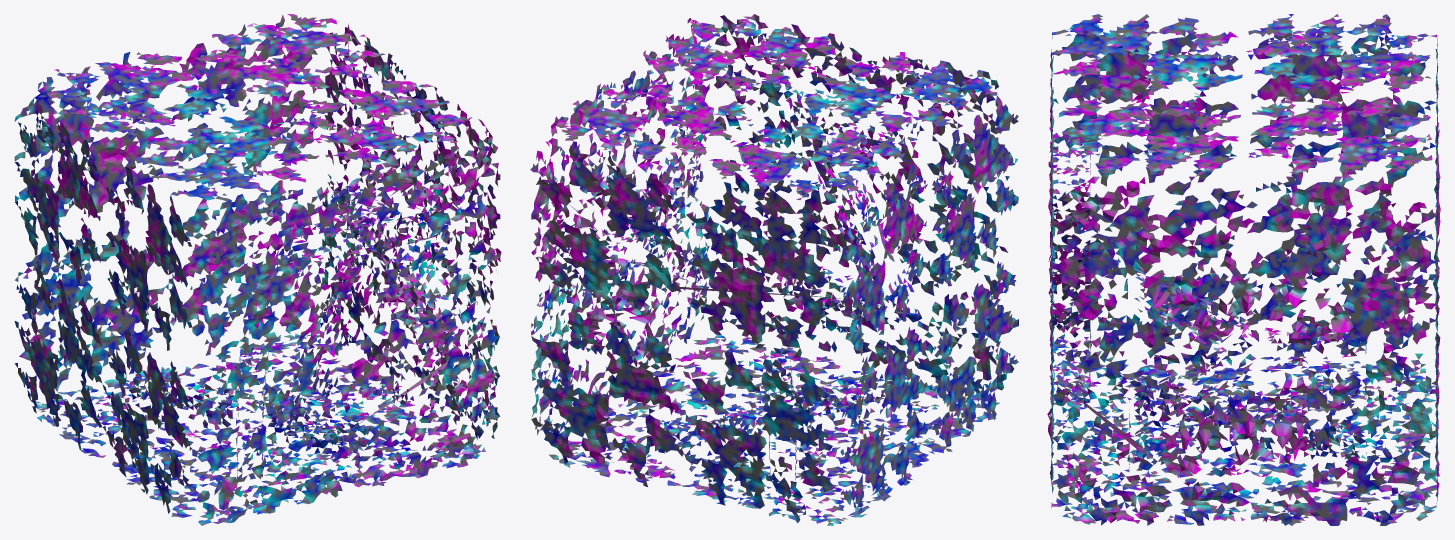
3 views of the same model, side by side, from view 1: azimuth 30°, elevation 25°; view 2: azimuth 150°, elevation 25°; view 3: azimuth 270°, elevation 25° (orthographic). The views are drawn at different scales.
Bounding box in the file's own units: 1.21 × 1.15 × 1.14.
